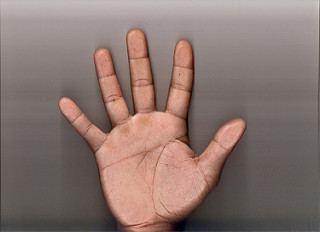palm: (99, 120, 196, 212)
